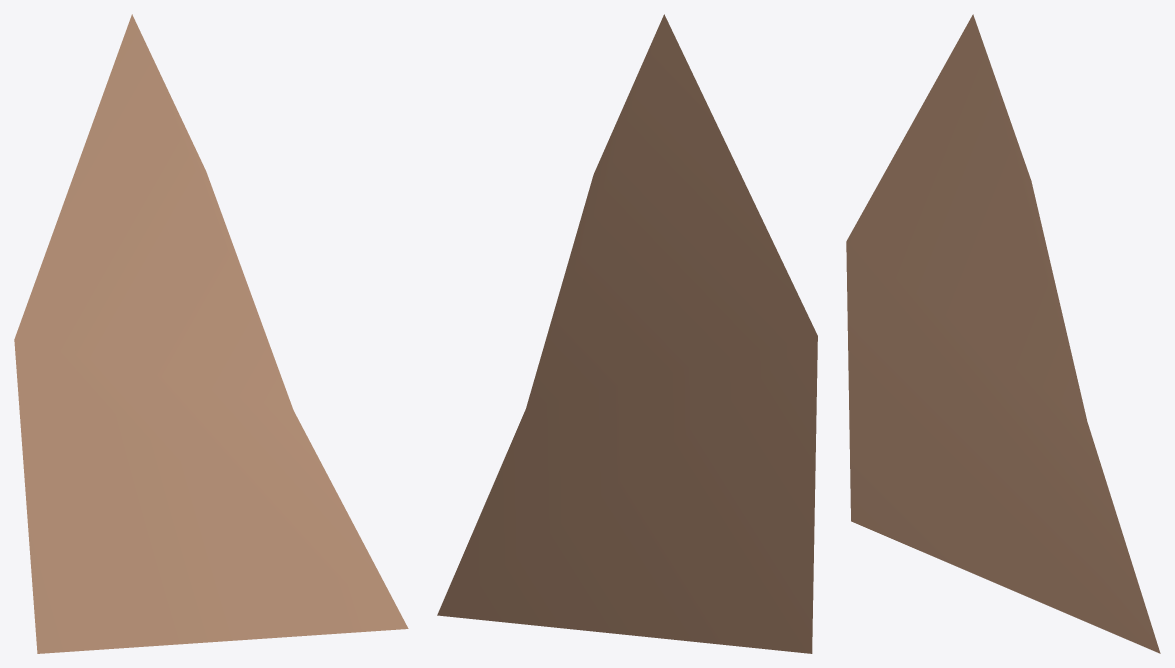
The model's file is triangle-of-auscultation-l.glb.
3 views of the same model, side by side, from view 1: azimuth 30°, elevation 25°; view 2: azimuth 150°, elevation 25°; view 3: azimuth 330°, elevation 25° (orthographic). The views are drawn at different scales.
Parts seen in each view (by area): view 1: Triangle of auscultation.l; view 2: Triangle of auscultation.l; view 3: Triangle of auscultation.l.
Part boxes in pixels (<box>): Triangle of auscultation.l: <box>14,14,408,653</box>; Triangle of auscultation.l: <box>437,14,817,653</box>; Triangle of auscultation.l: <box>846,14,1160,653</box>.
Bounding box in the file's own units: 0.0102 × 0.0168 × 0.00143.
